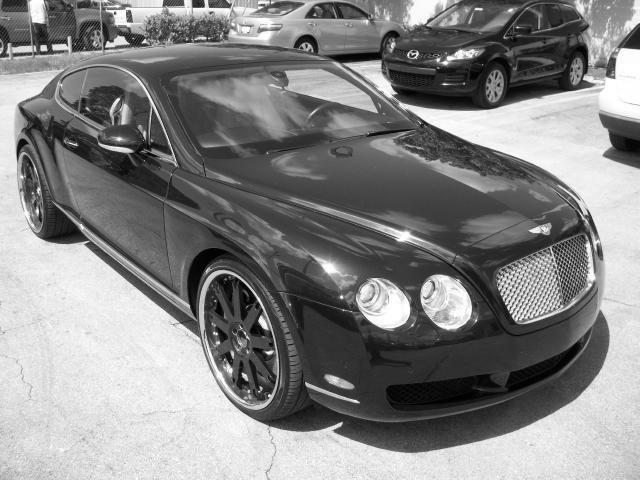car: (13, 41, 611, 434)
